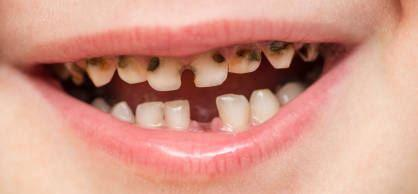Caries: (176, 64, 204, 84), (269, 41, 293, 62), (236, 46, 258, 66), (87, 57, 110, 74), (146, 54, 163, 73), (117, 54, 133, 71), (212, 51, 230, 66), (302, 46, 315, 60)
Hypodontia: (184, 103, 228, 129)
